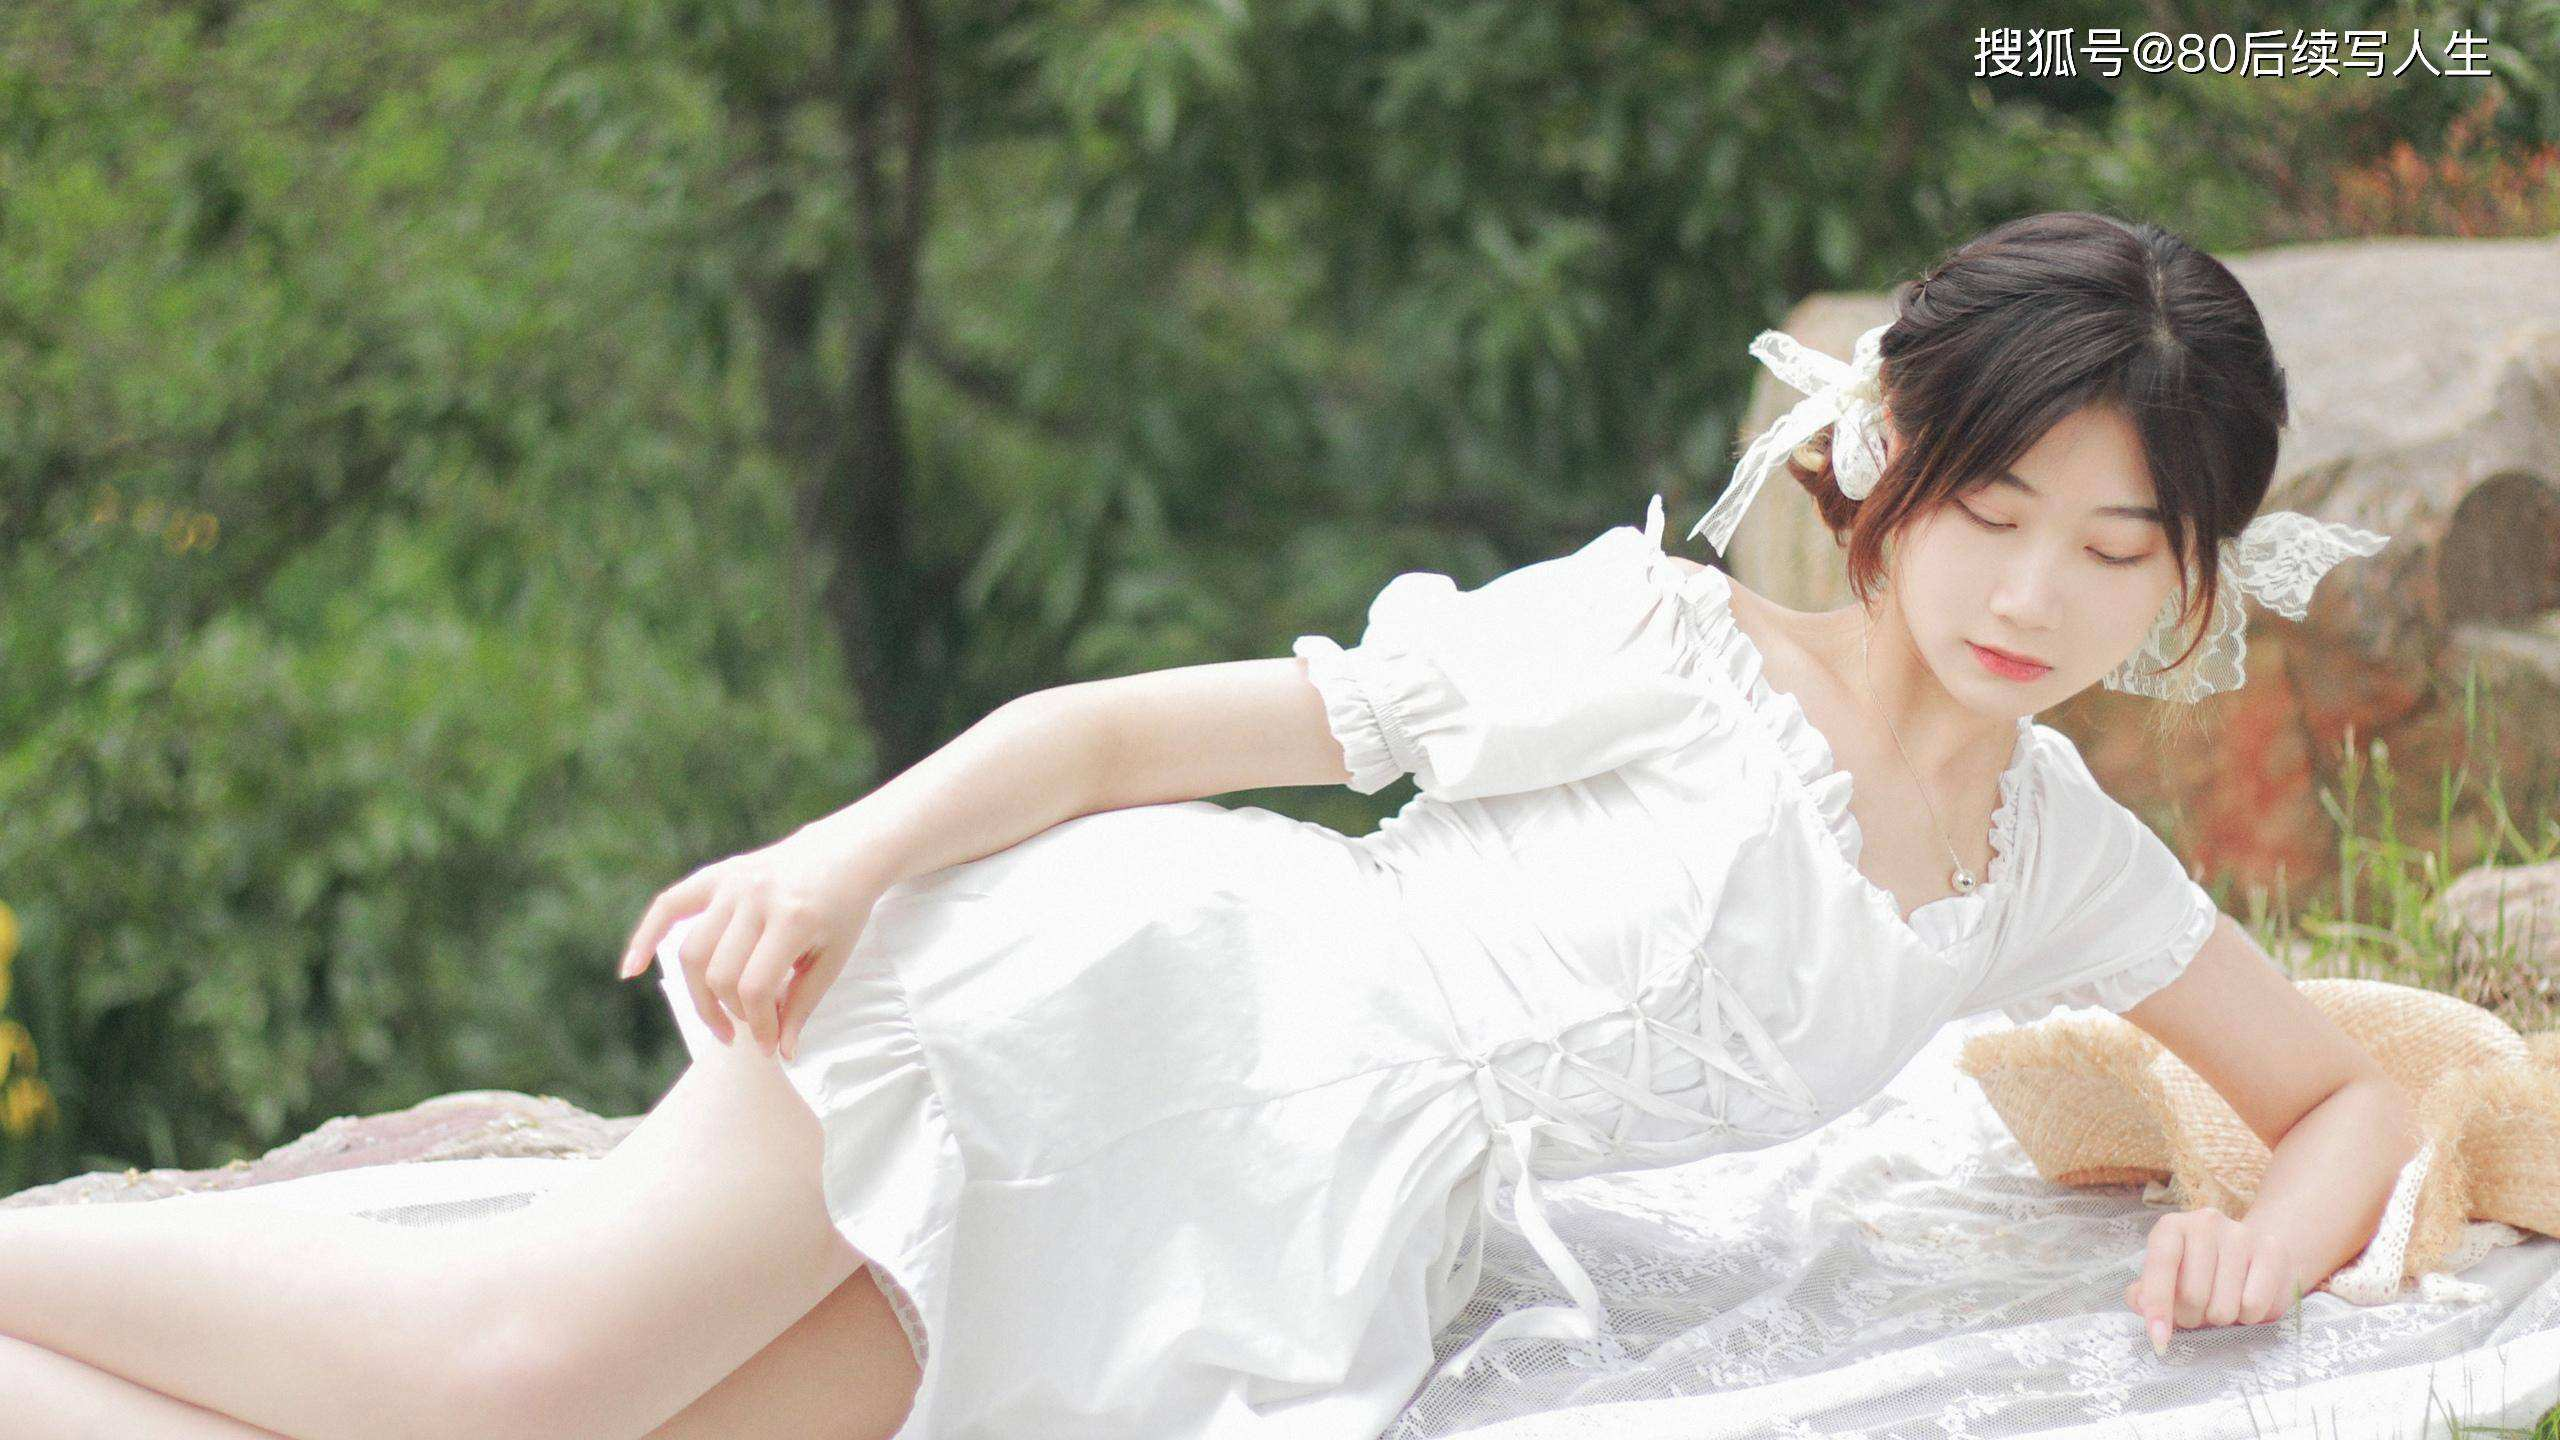person: (131, 292, 2503, 1366)
